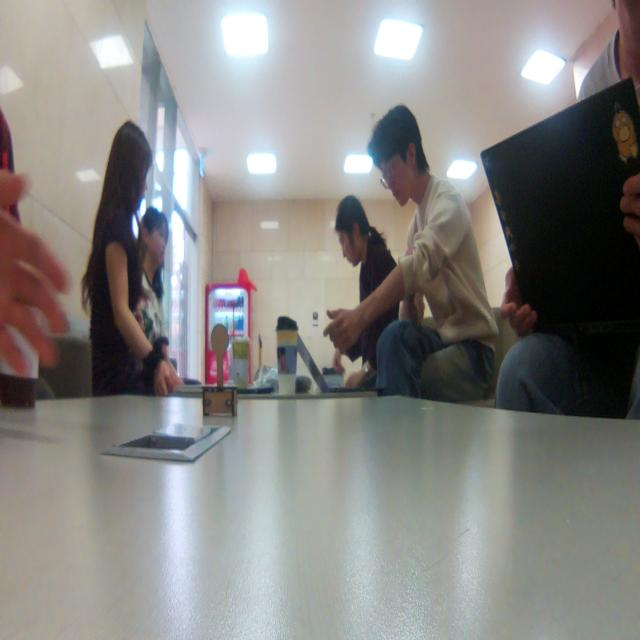target: (202, 324, 237, 420)
